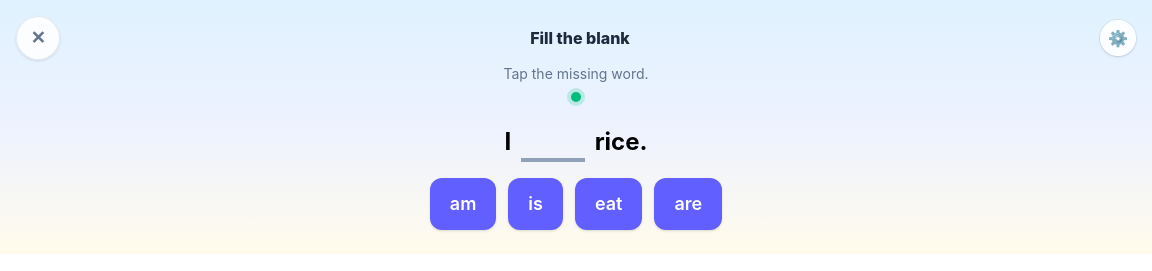
FillBlankScreen › shows the "Correct! ✓" beat and does NOT advance immediately on a correct tap
The width and height of the screenshot is (1152, 271).
Click the button with test id "tile-eat": point(609, 204) [575,178,642,230]
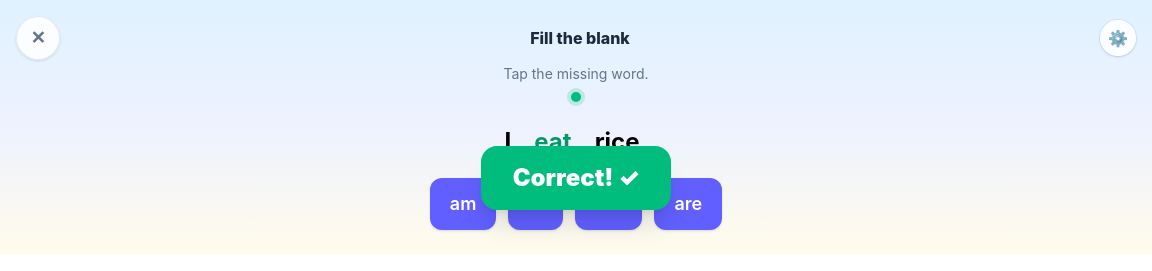
Expected: the message reads "Correct! ✓", [513,163,639,192]
